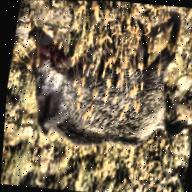boar: (21, 4, 192, 154)
